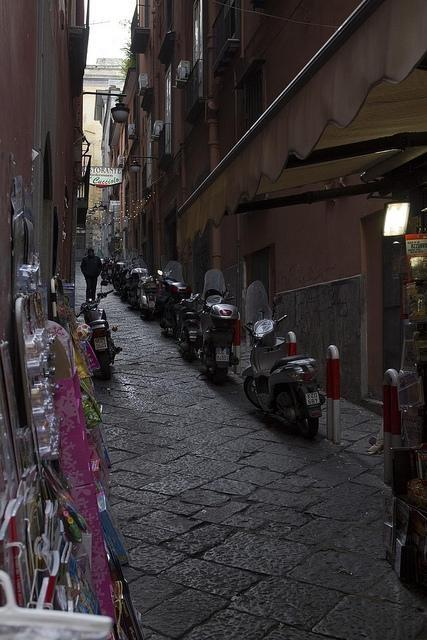motorcycle: (240, 314, 321, 432), (75, 274, 128, 381), (198, 270, 240, 378), (154, 259, 192, 337), (177, 291, 201, 364), (136, 268, 156, 314), (112, 262, 131, 299), (128, 272, 139, 310)
